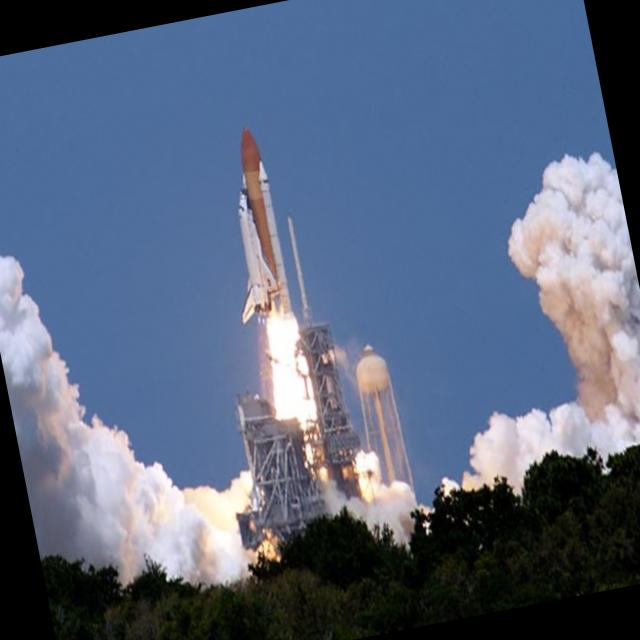rocket: (209, 116, 322, 454)
